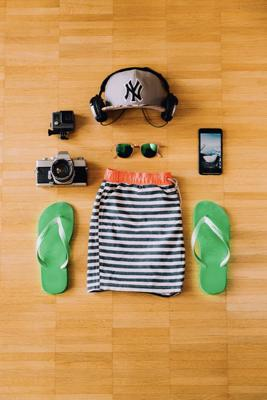cell-phone: (193, 123, 229, 179)
